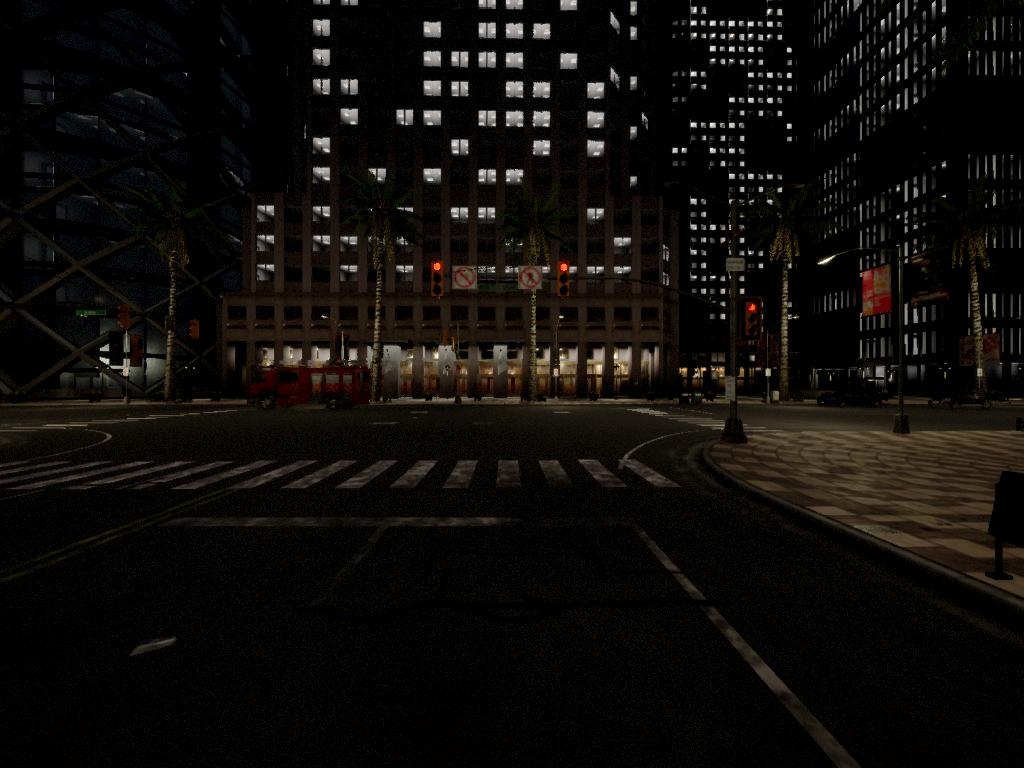traffic_light: (745, 302, 765, 340), (556, 266, 573, 299), (432, 264, 446, 298)
